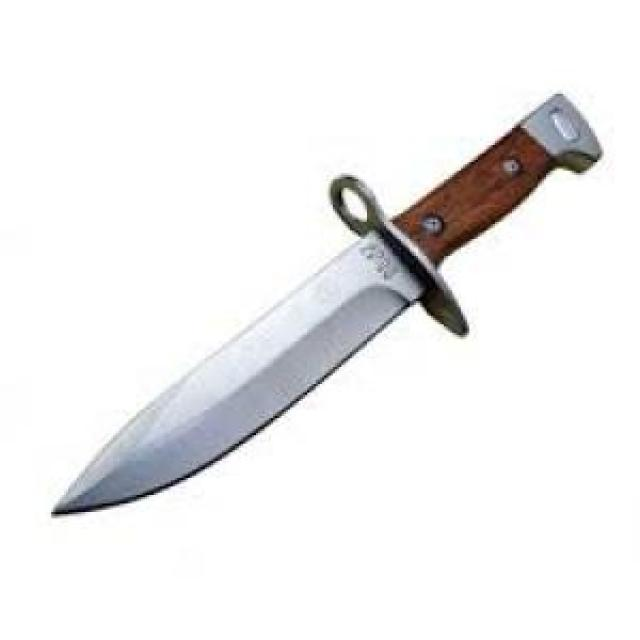knife: (41, 85, 618, 513)
